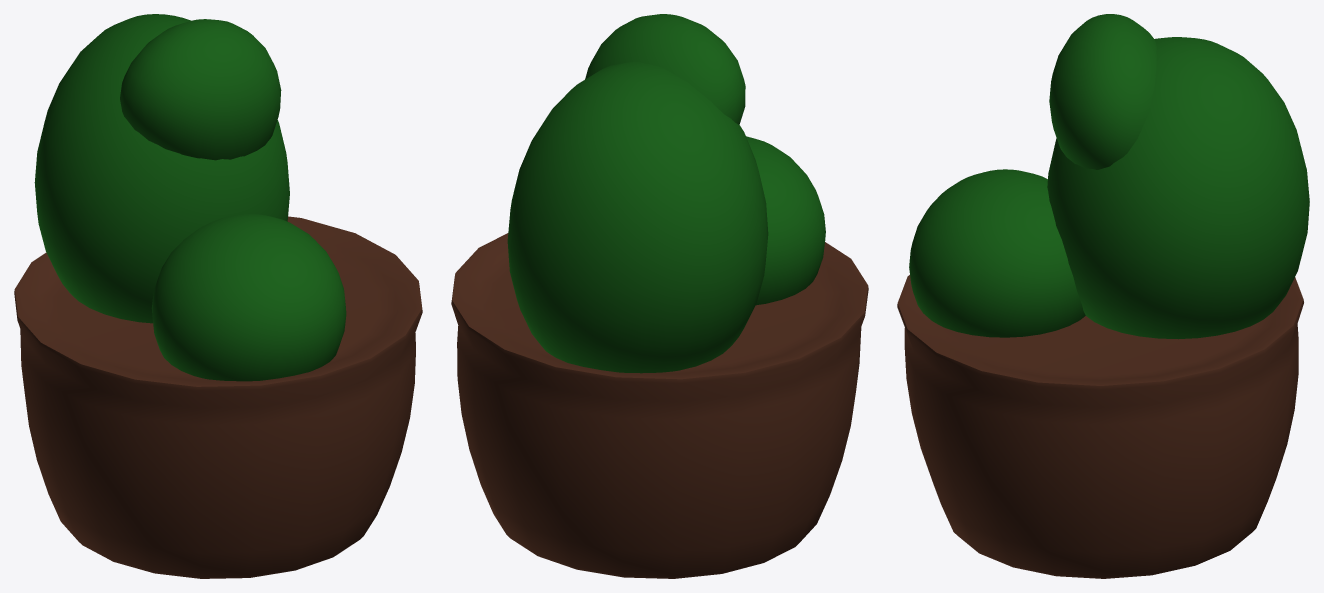
Rendered from Cactus.fbx.
The picture shows the model from 3 angles, left to right: view 1: azimuth 30°, elevation 25°; view 2: azimuth 150°, elevation 25°; view 3: azimuth 270°, elevation 25°; orthographic projection. The views are drawn at different scales.
Visible parts, largest first — view 1: Cylinder002; view 2: Cylinder002; view 3: Cylinder002.
Boxes of the visible parts, x1,y1,x2,y2 form: Cylinder002: [14, 14, 422, 578]; Cylinder002: [451, 14, 868, 578]; Cylinder002: [897, 14, 1309, 578].
Size of the model in its own units: 46.34 by 61.35 by 46.97.
